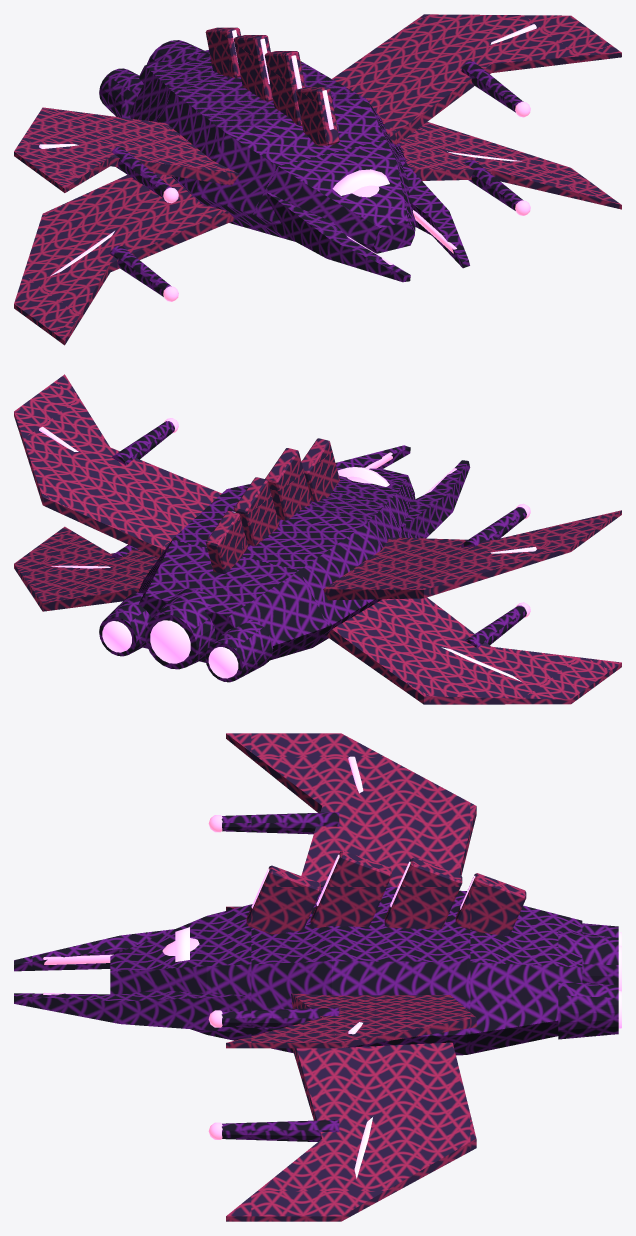
The model's file is nave_inimiga.glb.
3 views of the same model, one above another, from view 1: azimuth 30°, elevation 25°; view 2: azimuth 150°, elevation 25°; view 3: azimuth 270°, elevation 25° (orthographic). The views are drawn at different scales.
Parts seen in each view (by area): view 1: AsasPlacas, CascoObsidiana, VeiosPropulsorRoxo, NucleoCanhoesRubro; view 2: AsasPlacas, CascoObsidiana, VeiosPropulsorRoxo, NucleoCanhoesRubro; view 3: AsasPlacas, CascoObsidiana, VeiosPropulsorRoxo, NucleoCanhoesRubro.
Boxes of the visible parts, x1,y1,x2,y2 form: AsasPlacas: [14, 14, 621, 345]; CascoObsidiana: [99, 40, 523, 296]; VeiosPropulsorRoxo: [39, 24, 536, 276]; NucleoCanhoesRubro: [163, 101, 530, 301]; AsasPlacas: [14, 374, 621, 704]; CascoObsidiana: [99, 421, 526, 682]; VeiosPropulsorRoxo: [39, 426, 536, 681]; NucleoCanhoesRubro: [164, 418, 530, 617]; AsasPlacas: [226, 733, 526, 1221]; CascoObsidiana: [14, 812, 618, 1141]; VeiosPropulsorRoxo: [175, 756, 621, 1178]; NucleoCanhoesRubro: [43, 815, 222, 1139].
Size of the model in its own units: 15.2 by 4.89 by 12.62.
Materials: 4 (2 with a texture image).
